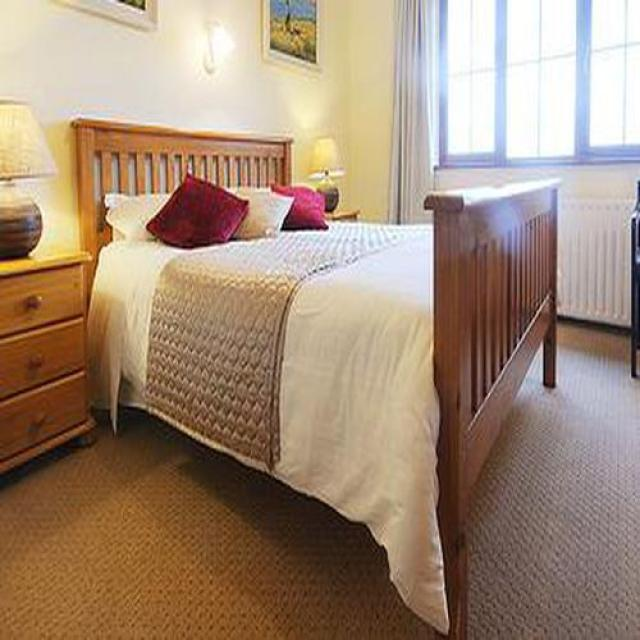bed: (74, 122, 559, 640)
